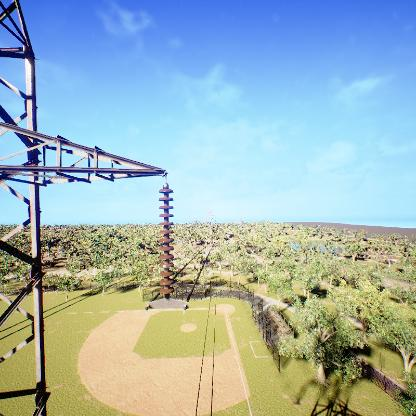insulator: (158, 187, 175, 297)
